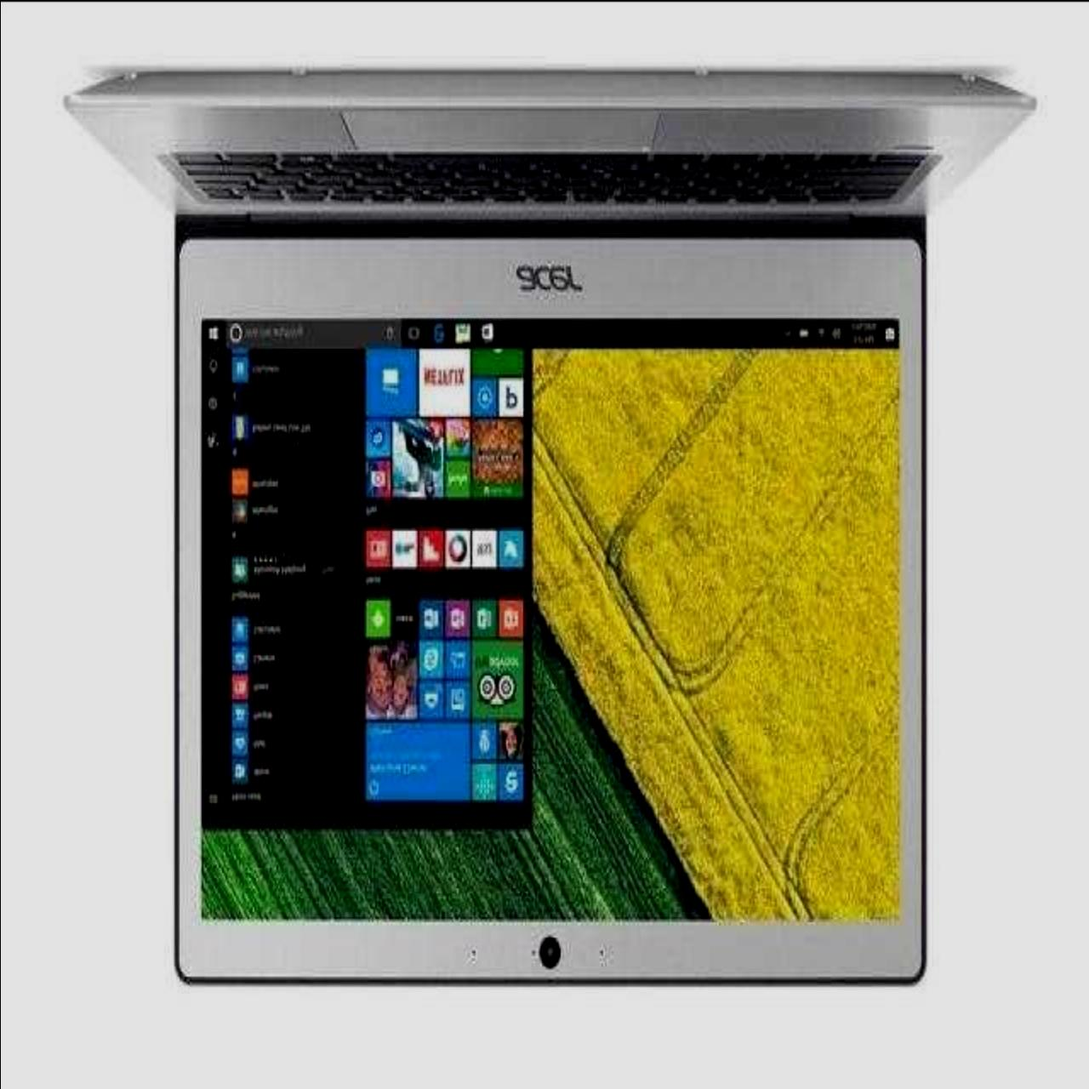laptop: (167, 29, 929, 972)
